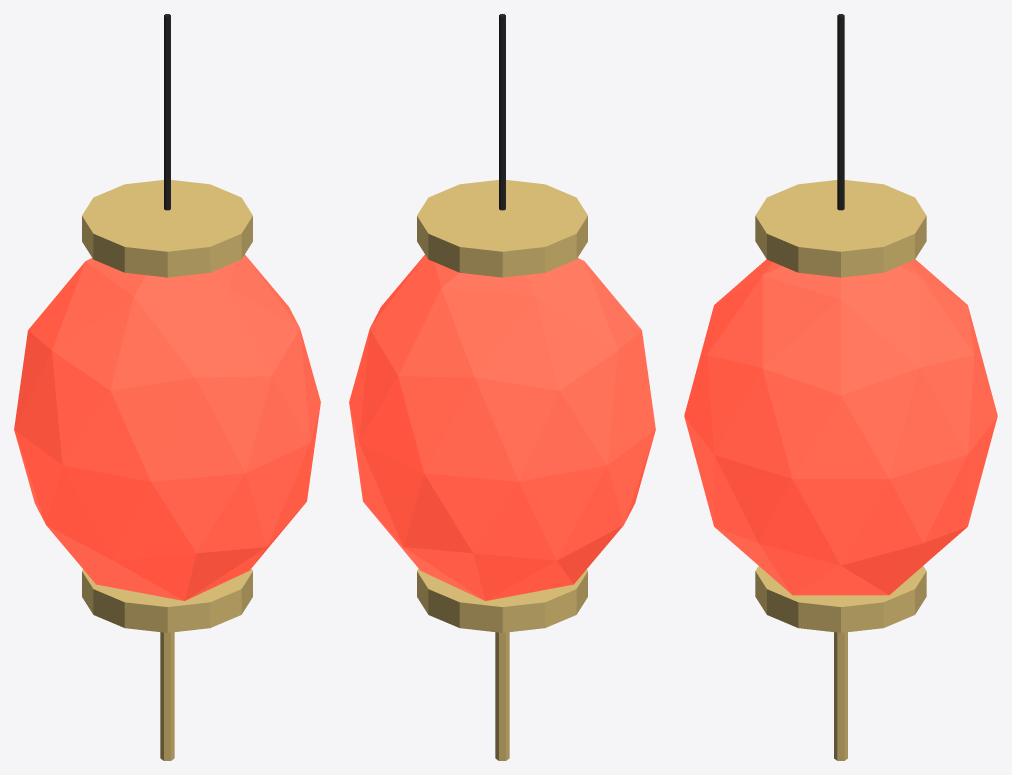
File: lantern_red.glb
3 renders of one model, left to right at view 1: azimuth 30°, elevation 25°; view 2: azimuth 150°, elevation 25°; view 3: azimuth 270°, elevation 25°, orthographic.
Parts seen in each view (by area): view 1: lantern_red; view 2: lantern_red; view 3: lantern_red.
Part boxes in pixels (x1=…): lantern_red: x1=14, y1=14, x2=320, y2=760; lantern_red: x1=349, y1=14, x2=655, y2=760; lantern_red: x1=684, y1=14, x2=997, y2=760.
Bounding box in the file's own units: 0.4185 × 1.15 × 0.44.
